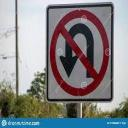NoVirarU: (51, 10, 109, 96)
